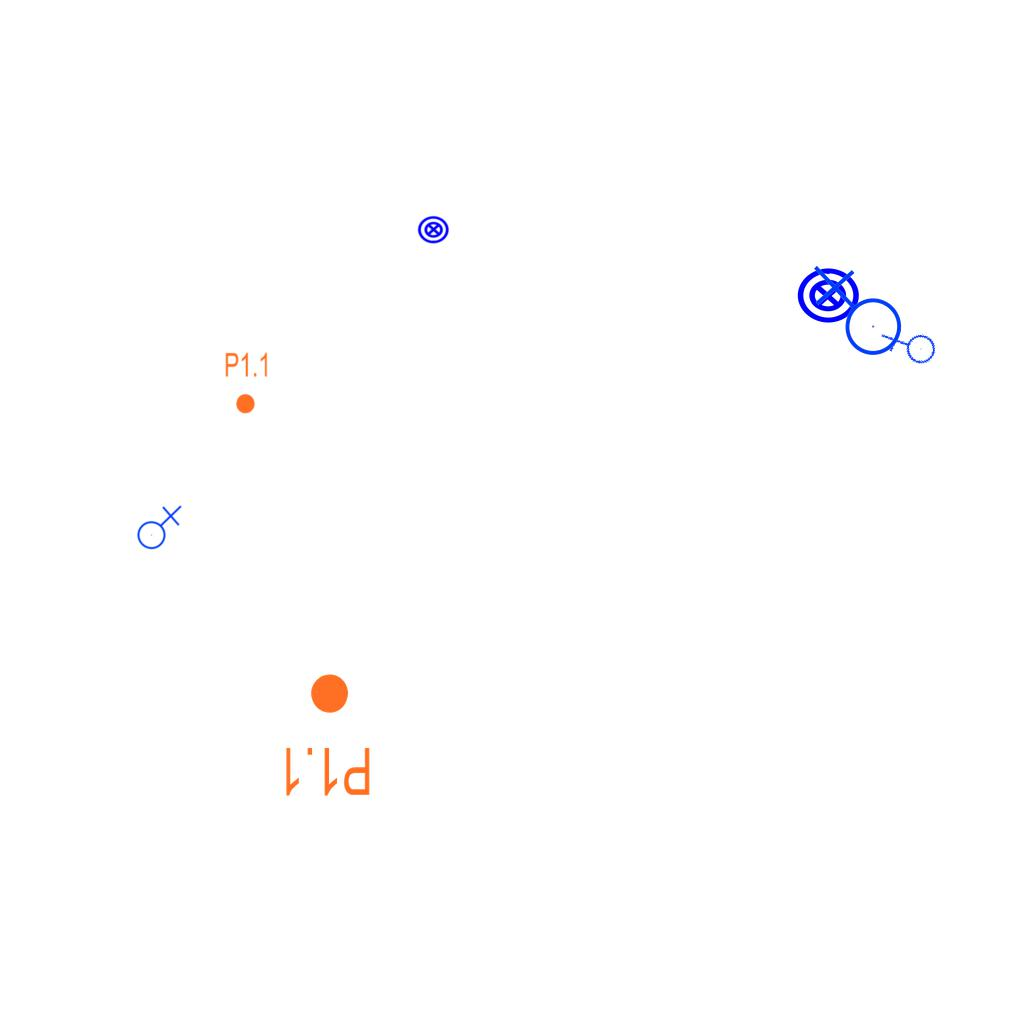Downlight_LED_Einbauleuchten_Flur: (280, 671, 373, 799), (224, 351, 270, 415)
Elektroanschluss_allgemein_230V_Geraeteanschlussdose_230V: (809, 265, 903, 364), (878, 315, 943, 380), (133, 503, 182, 550)
Taster_beleuchtet: (795, 263, 861, 329), (417, 213, 450, 246)
